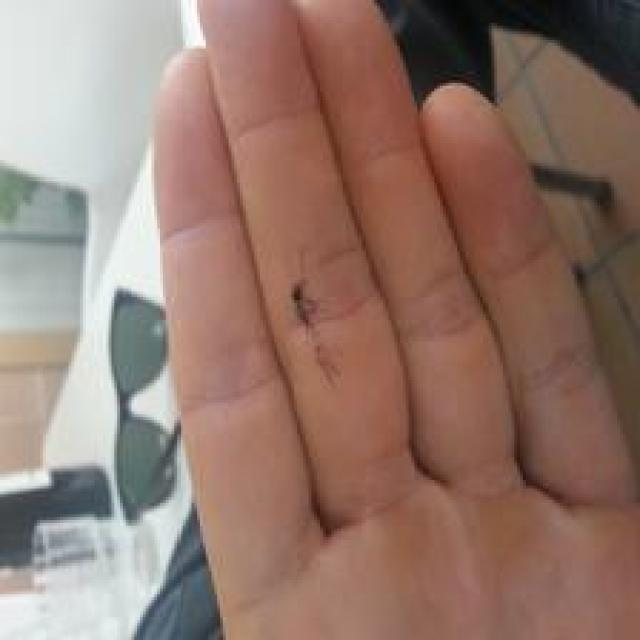Aedes albopictus: (107, 287, 182, 524)
